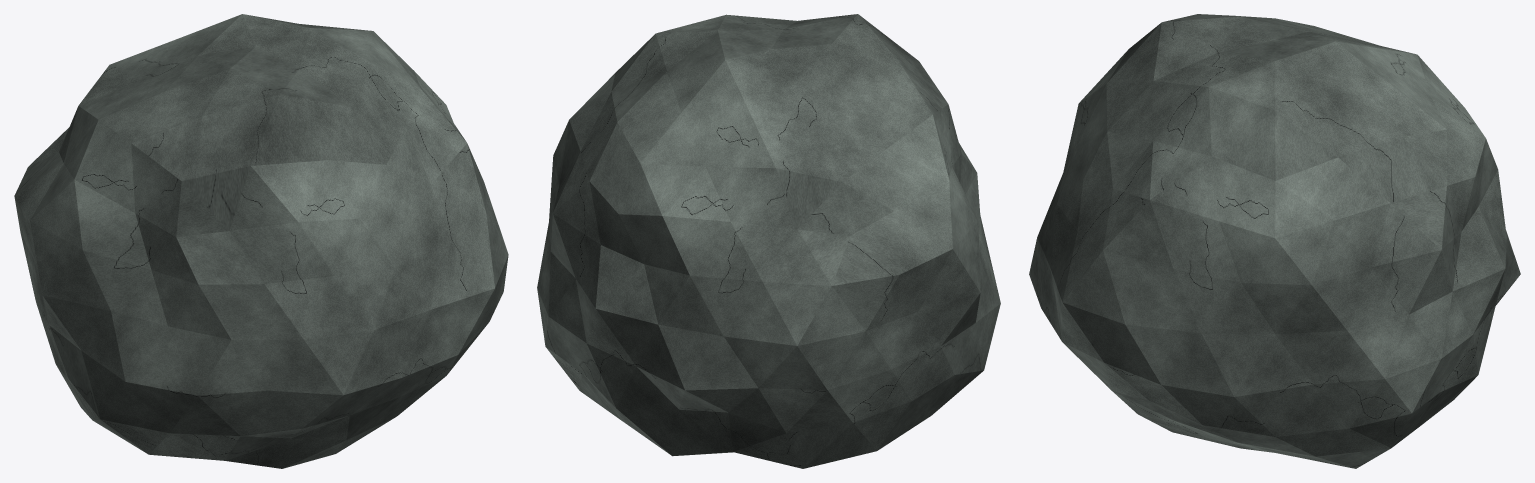
Rendered from kit_rock.glb.
3 renders of one model, left to right at view 1: azimuth 30°, elevation 25°; view 2: azimuth 150°, elevation 25°; view 3: azimuth 270°, elevation 25°, orthographic. The views are drawn at different scales.
Visible parts, largest first — view 1: kit_rock; view 2: kit_rock; view 3: kit_rock.
Part boxes in pixels (x1,y1,x2,y2): kit_rock: (14, 14, 508, 468); kit_rock: (537, 14, 1000, 468); kit_rock: (1029, 14, 1520, 468).
Size of the model in its own units: 2.01 by 1.8 by 2.03.
Materials: 1 (1 with a texture image).
